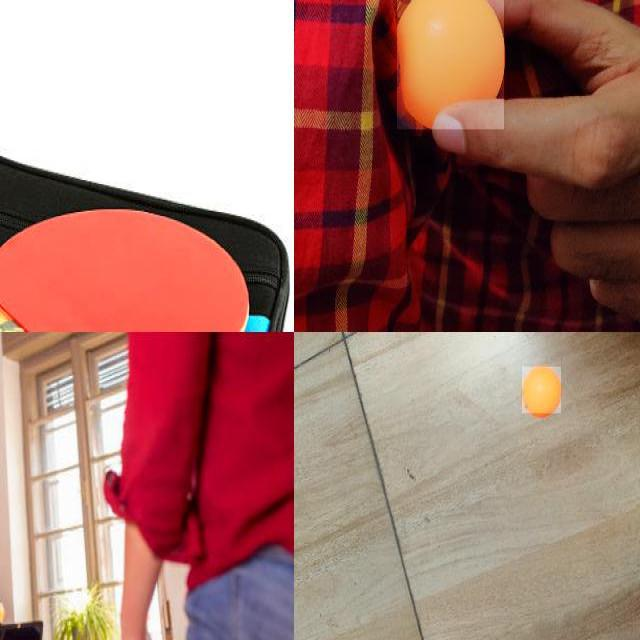ping-pong-ball: (397, 0, 505, 132), (522, 366, 562, 414), (0, 602, 4, 626)
